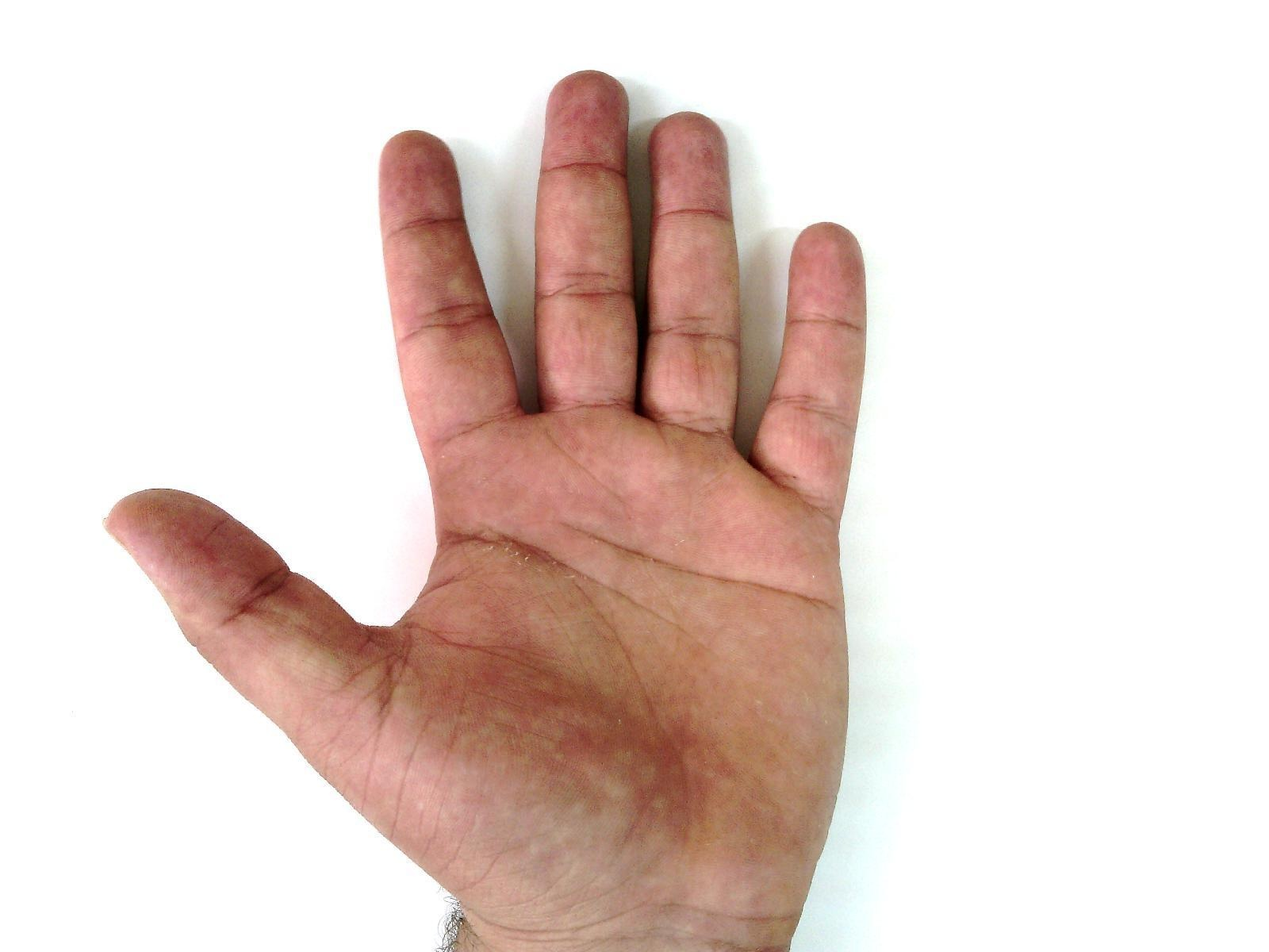open_palm: (102, 69, 872, 951)
